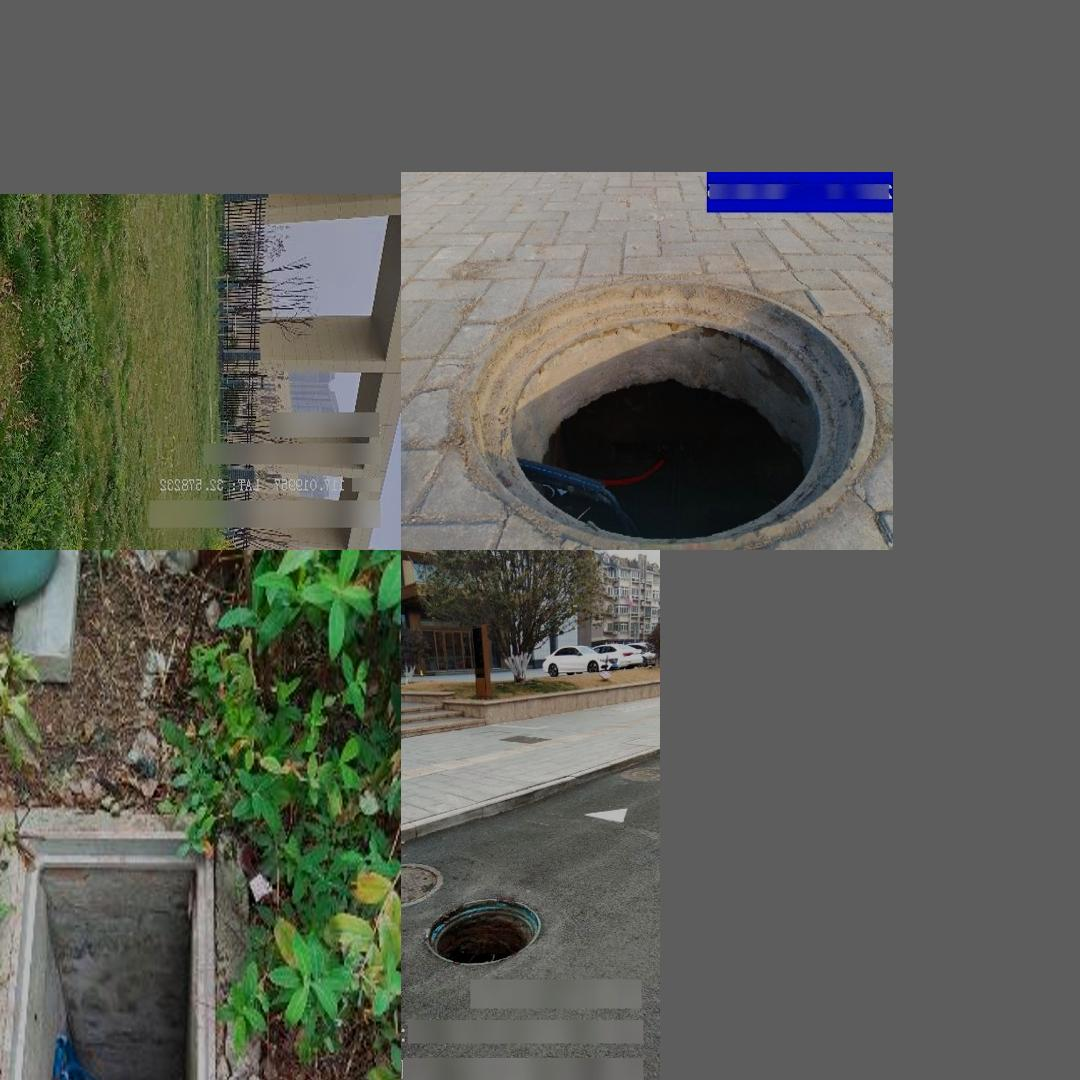lose: (464, 277, 877, 550), (0, 831, 223, 1080), (424, 898, 542, 966)
